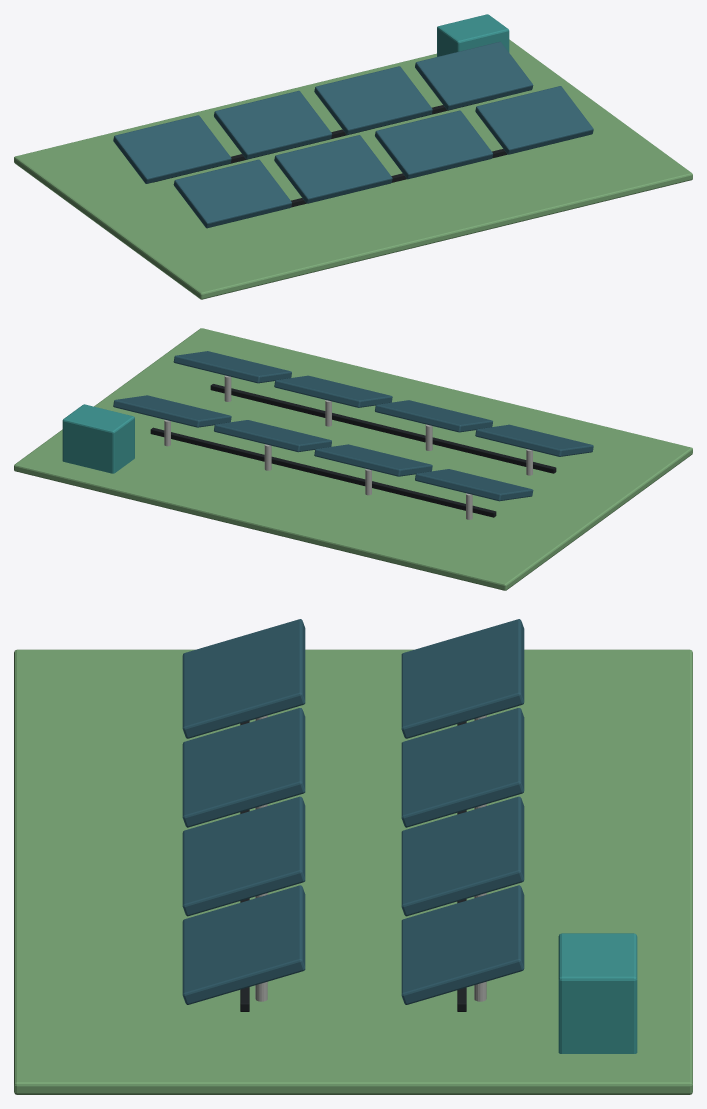
File: UTIL_SOLAR_3x2_001.glb
3 renders of one model, top to bottom at view 1: azimuth 30°, elevation 25°; view 2: azimuth 150°, elevation 25°; view 3: azimuth 270°, elevation 25°, orthographic. The views are drawn at different scales.
Parts seen in each view (by area): view 1: UTIL_SOLAR_3x2_001_Visual; view 2: UTIL_SOLAR_3x2_001_Visual; view 3: UTIL_SOLAR_3x2_001_Visual.
Boxes of the visible parts, left/top/right/bottom form: UTIL_SOLAR_3x2_001_Visual: left=14, top=14, right=692, bottom=299; UTIL_SOLAR_3x2_001_Visual: left=14, top=328, right=692, bottom=590; UTIL_SOLAR_3x2_001_Visual: left=14, top=619, right=692, bottom=1094.
Size of what is drawn, in the model's own units: 5.88 by 0.5651 by 3.88.
